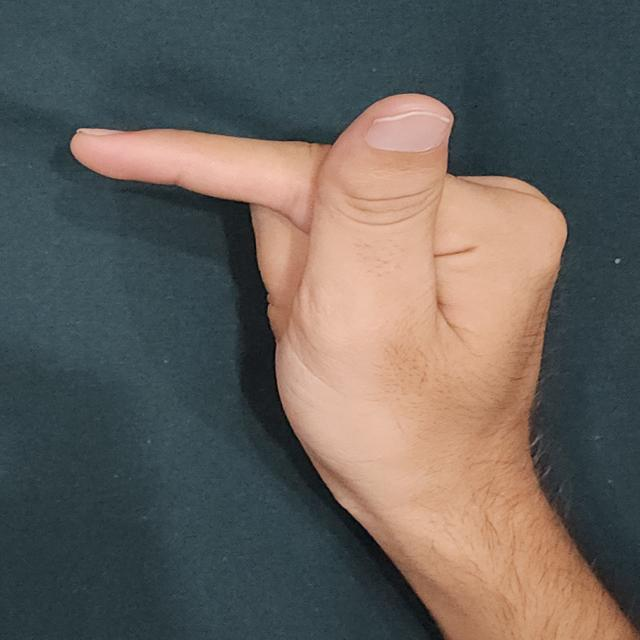ڑ: (63, 88, 585, 564)
